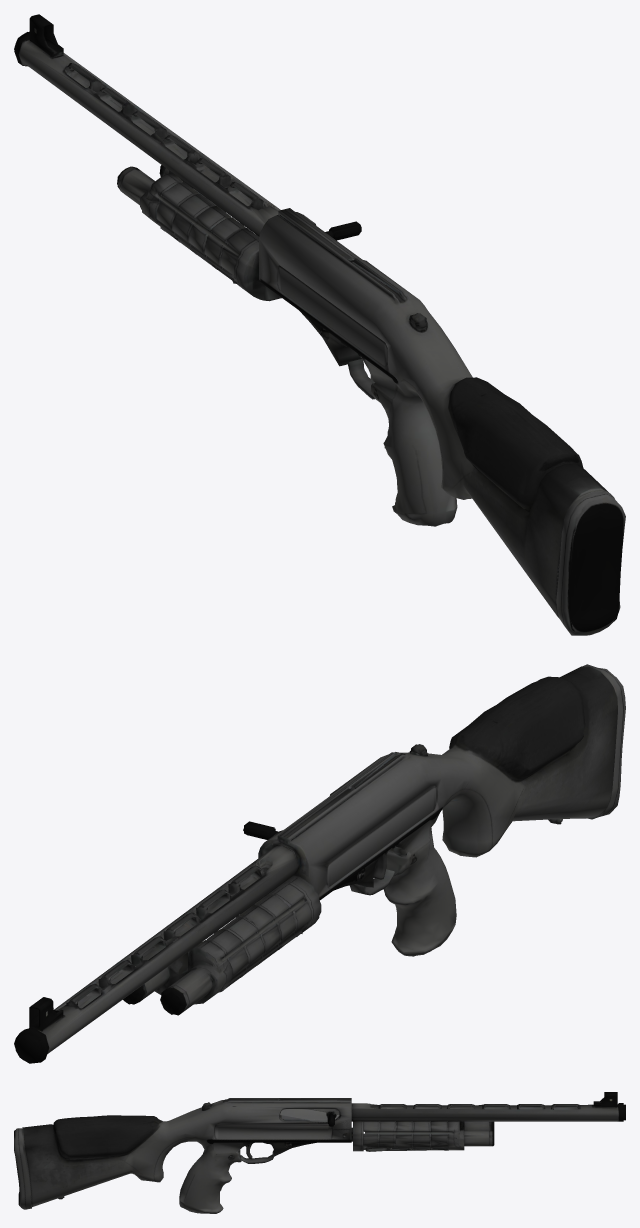
Rendered from shotgun.glb.
The picture shows the model from 3 angles, top to bottom: view 1: azimuth 30°, elevation 25°; view 2: azimuth 150°, elevation 25°; view 3: azimuth 270°, elevation 25°; orthographic projection. The views are drawn at different scales.
Parts seen in each view (by area): view 1: tripo_node_1875f962-e5fd-4099-8ae5-48c969bf44be; view 2: tripo_node_1875f962-e5fd-4099-8ae5-48c969bf44be; view 3: tripo_node_1875f962-e5fd-4099-8ae5-48c969bf44be.
Part boxes in pixels (x1,y1,x2,y2): tripo_node_1875f962-e5fd-4099-8ae5-48c969bf44be: (14,14,625,635); tripo_node_1875f962-e5fd-4099-8ae5-48c969bf44be: (14,664,625,1063); tripo_node_1875f962-e5fd-4099-8ae5-48c969bf44be: (14,1092,625,1213).
Size of the model in its own units: 0.4271 by 0.95 by 4.45.
1 material, 1 textured.
